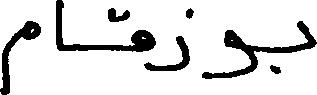X: (0, 16, 40, 94), (205, 25, 256, 83), (165, 4, 188, 75), (131, 25, 154, 75), (297, 16, 316, 55), (55, 0, 61, 55)
